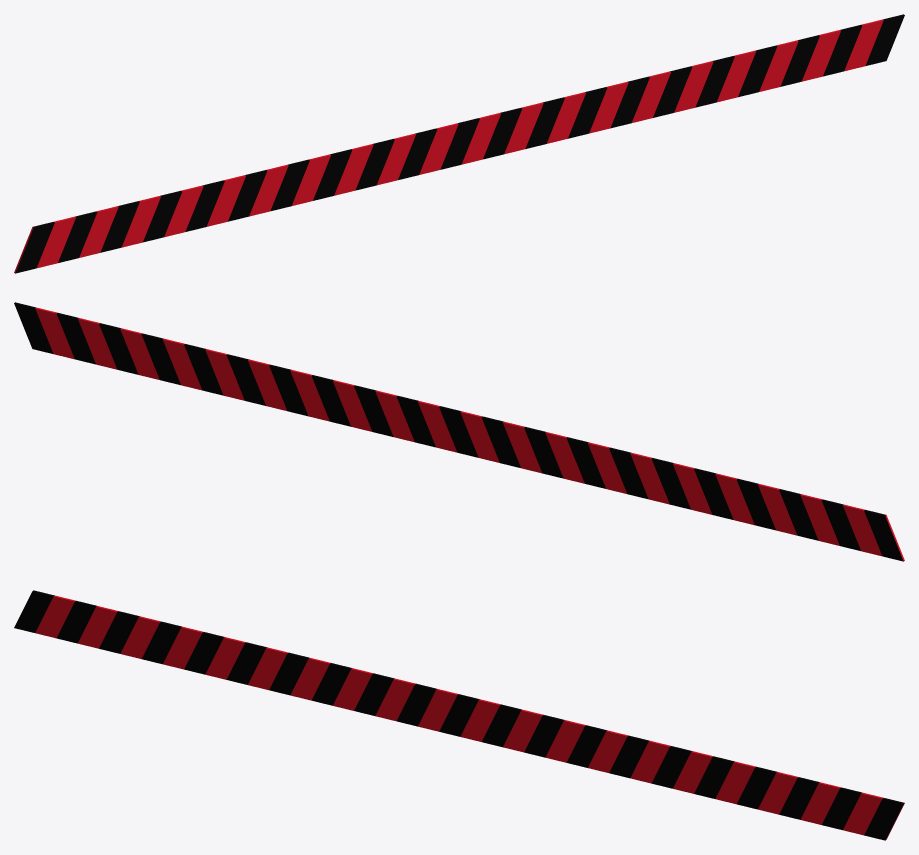
The model's file is stopBlockLod.fbx.
3 views of the same model, one above another, from view 1: azimuth 30°, elevation 25°; view 2: azimuth 150°, elevation 25°; view 3: azimuth 330°, elevation 25° (orthographic).
Parts seen in each view (by area): view 1: Plane.148; view 2: Plane.148; view 3: Plane.148.
Boxes of the visible parts, left/top/right/bottom form: Plane.148: left=14, top=14, right=904, bottom=273; Plane.148: left=14, top=302, right=904, bottom=561; Plane.148: left=14, top=590, right=904, bottom=840.
Bounding box in the file's own units: 40.85 × 1.81 × 0.1.
